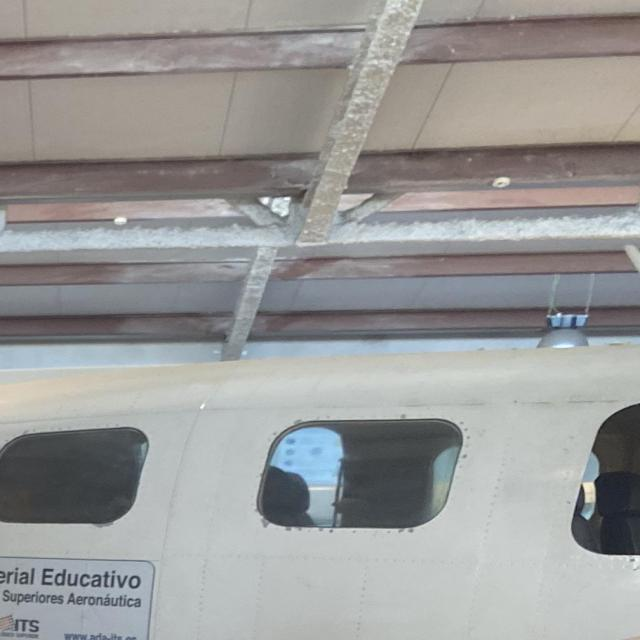Paint-off: (88, 521, 116, 529), (258, 516, 274, 529), (291, 419, 308, 426)
